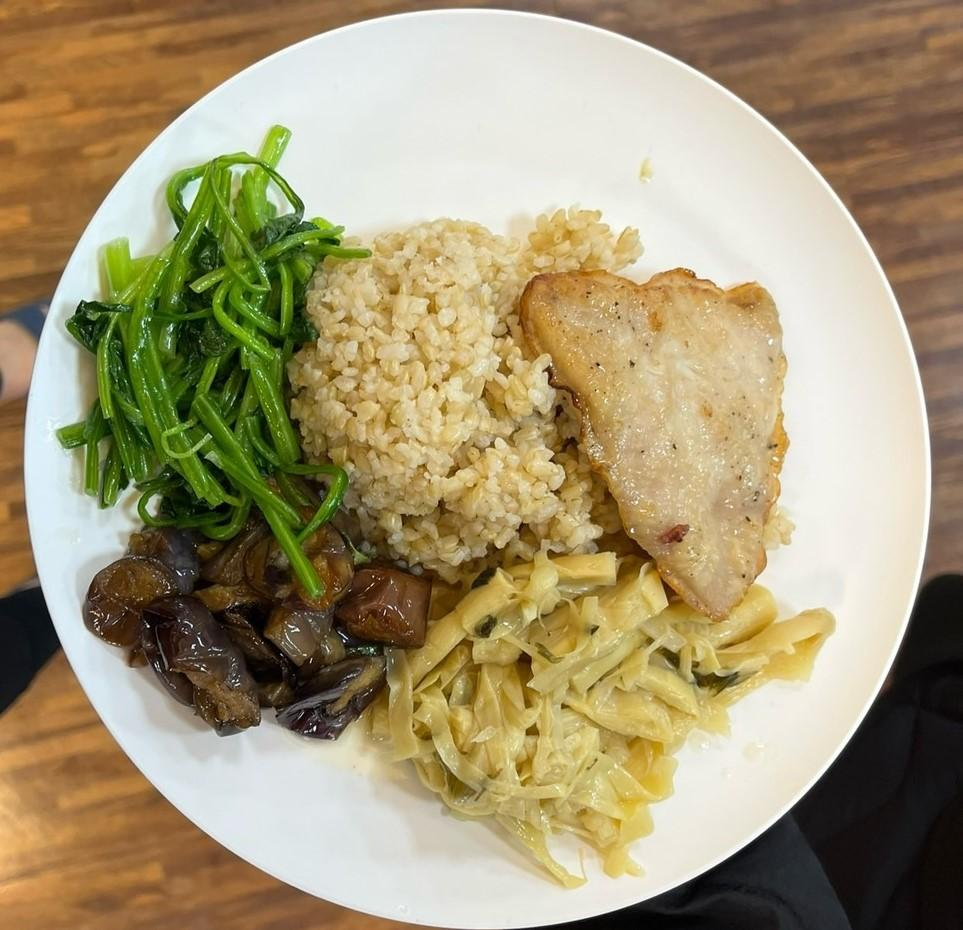big fried chicken leg: (30, 10, 944, 930)
box: (294, 210, 622, 572)
braised fish fillet: (382, 554, 837, 887), (54, 122, 352, 581), (78, 482, 435, 733)
braised pork: (510, 262, 798, 621)
